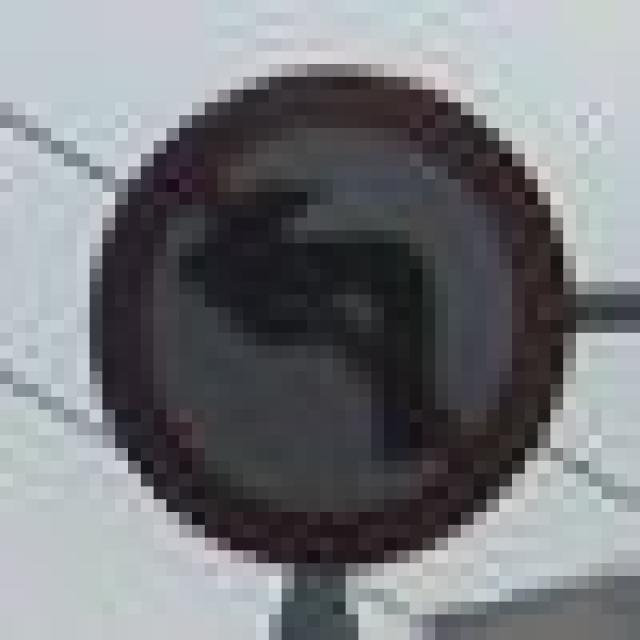left turn prohibited: (98, 70, 561, 563)
